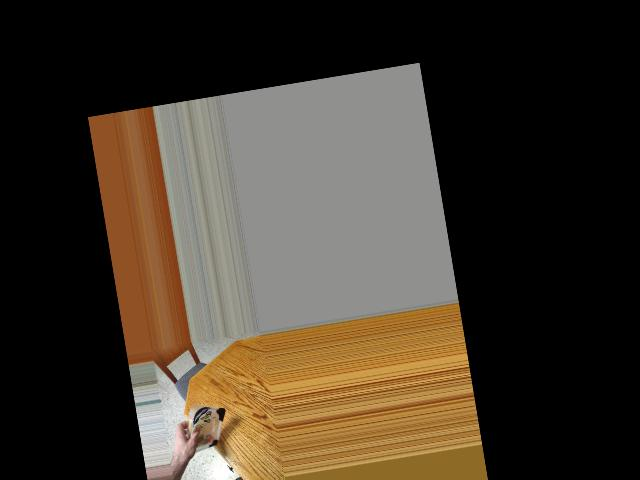cheese: (185, 403, 228, 457)
